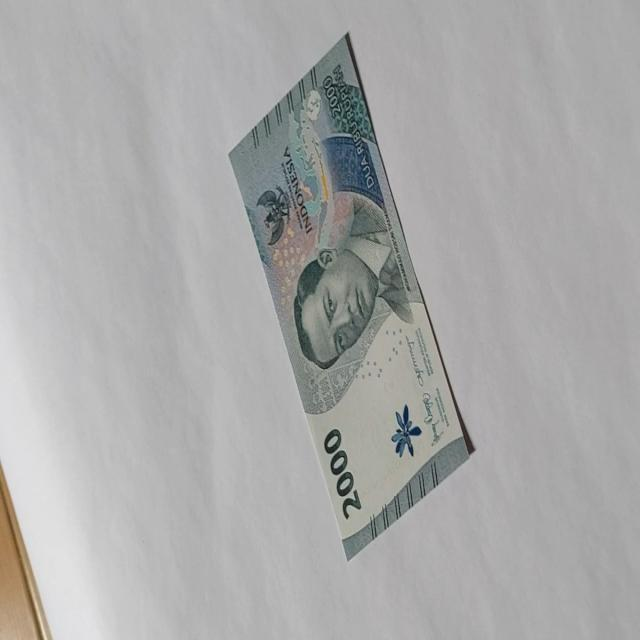dua ribu rupiah: (228, 31, 472, 562), (292, 191, 412, 372)
